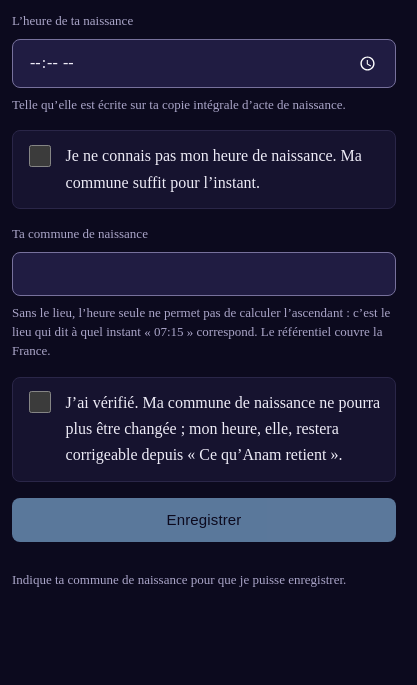
Test: [A2] le bouton ne s’ouvre que sur un envoi qui a quelque chose à écrire › une commune choisie dans la liste ouvre le bouton
Type "Bordeaux" into the dropdown labelled "Ta commune de naissance". click: coordinates (204, 274)
box: [12, 252, 396, 296]
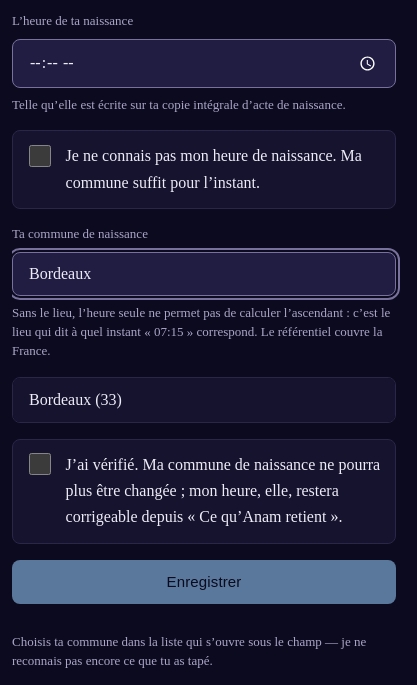
Click the button "Bordeaux (33)". click: coordinates (75, 399)
box: [13, 378, 395, 422]
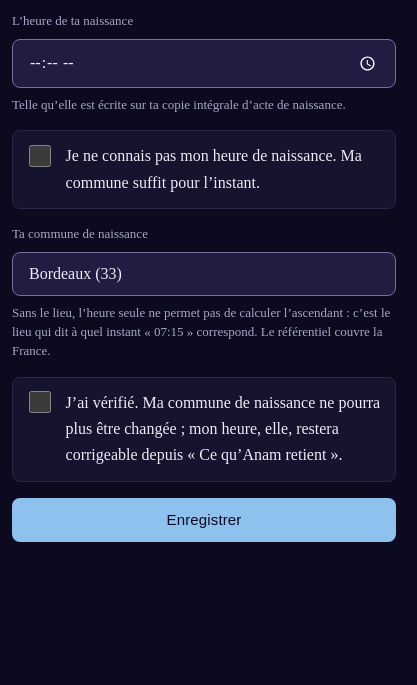
Now the button "Enregistrer" is enabled, box [12, 498, 396, 542]
